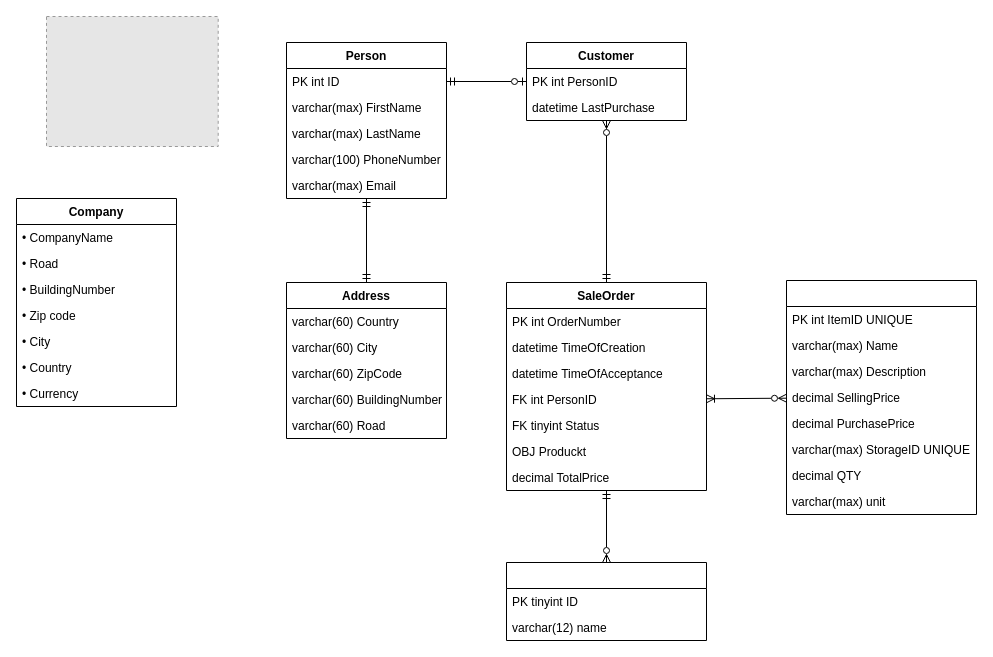
This 993x657 diagram has some shape labels left out. Grey dashed boxes stand in for pictures. Here are the shapes that lost their labels. From the top down, the box of each, then its label:
(786, 280, 976, 514): Product
(506, 562, 706, 640): SaleOrderStatus
